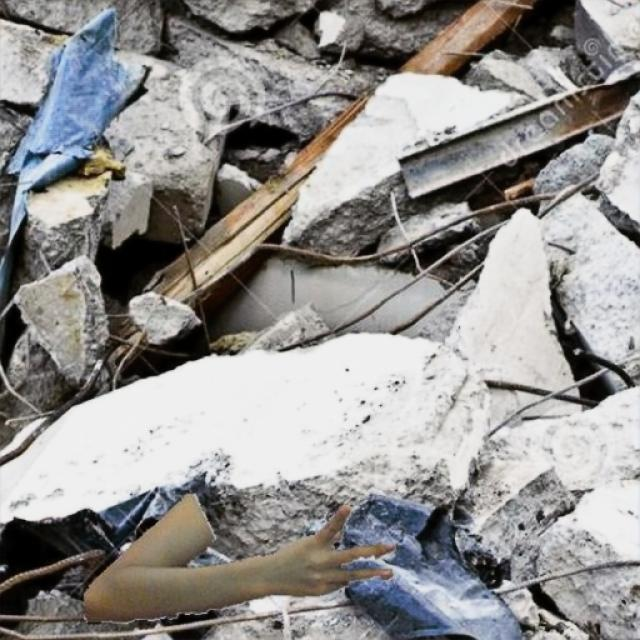Person in Rubble: (84, 493, 395, 622)
